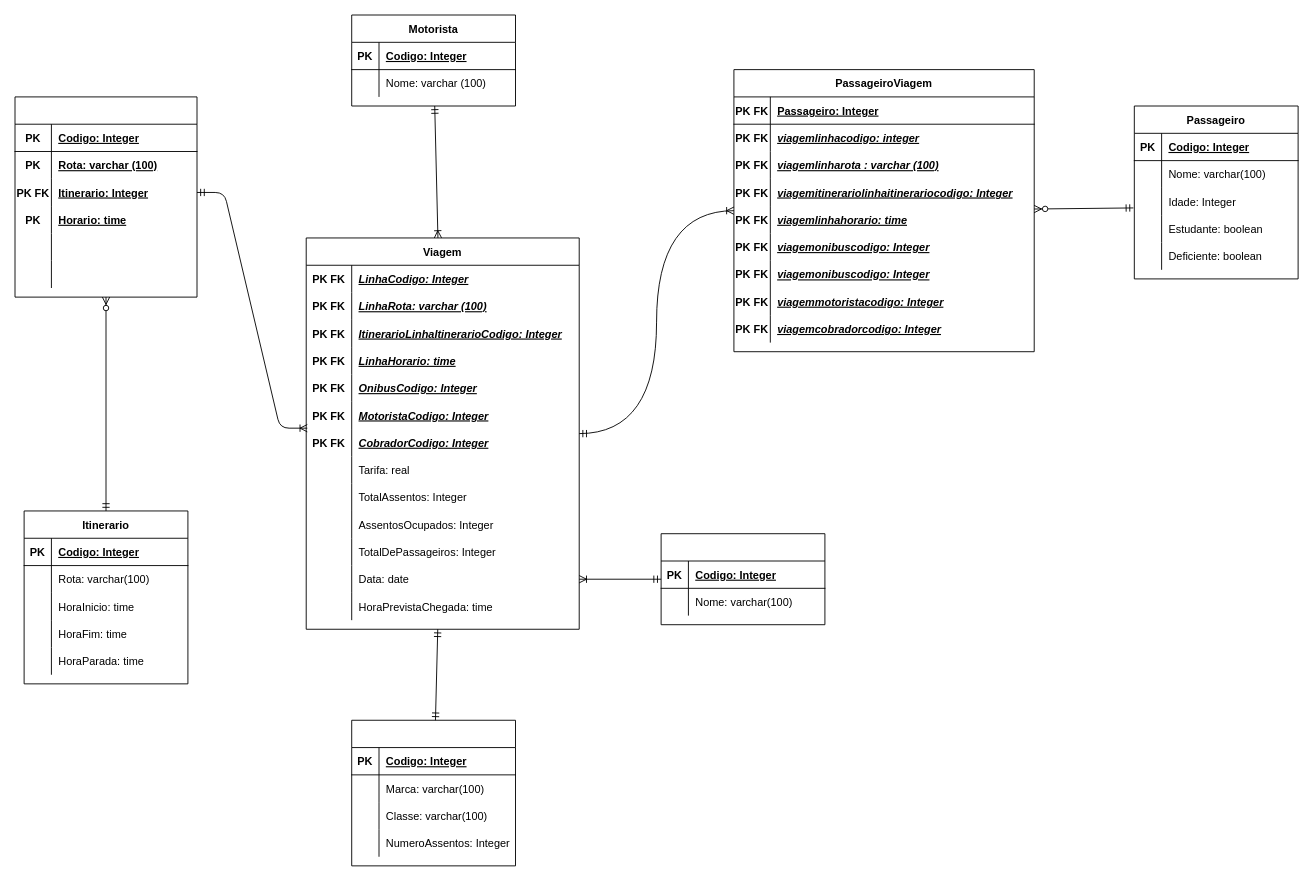
Some shapes in this 1313 by 881 pixel diagram are drawn without their labels. The shapes that lost their labels are listed below. From the top down, each one's box as (x1, y1, x2, y2) in pixels, then its label:
(14, 96, 197, 297): Linha
(660, 533, 825, 625): Cobrador
(351, 719, 516, 866): Onibus
